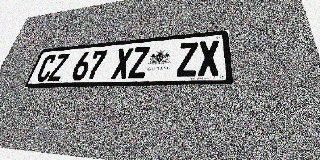6: (70, 51, 93, 81)
7: (85, 50, 108, 80)
C: (35, 54, 58, 82)
X: (198, 40, 220, 76), (111, 48, 133, 79)
Z: (176, 42, 198, 77), (128, 46, 150, 79), (47, 53, 70, 81)
